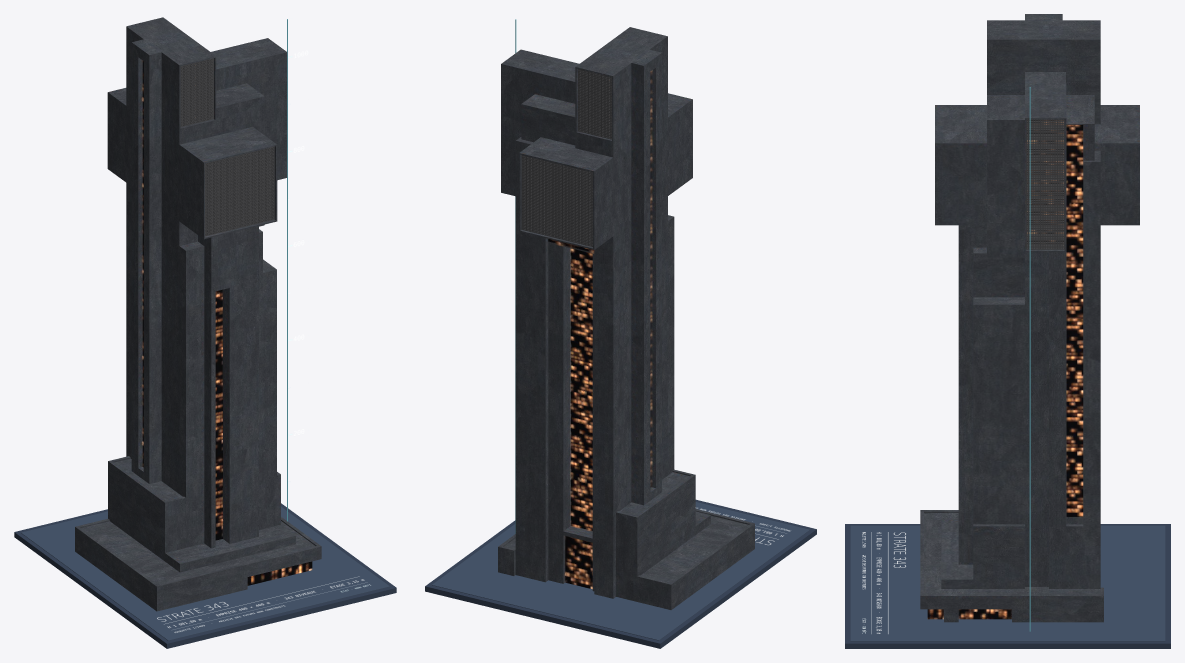
File: projet-01.glb
3 views of the same model, side by side, from view 1: azimuth 30°, elevation 25°; view 2: azimuth 150°, elevation 25°; view 3: azimuth 270°, elevation 25° (orthographic). The views are drawn at different scales.
Visible parts, largest first — view 1: Cube.001_bake, socle_liseré, Cube.003_bake, socle_plaque, cartouche; view 2: Cube.001_bake, socle_liseré, Cube.003_bake, socle_plaque; view 3: Cube.001_bake, socle_liseré, Cube.003_bake, socle_plaque, reglette_mat, cartouche.
Part boxes in pixels (x1,y1,x2,y2): Cube.001_bake: (75,17,321,611); socle_liseré: (21,507,389,640); Cube.003_bake: (180,58,274,236); socle_plaque: (14,503,396,648); cartouche: (157,576,370,632); Cube.001_bake: (498,27,754,609); socle_liseré: (432,502,809,640); Cube.003_bake: (521,69,611,246); socle_plaque: (425,499,816,648); Cube.001_bake: (920,14,1139,622); socle_liseré: (850,525,1165,641); Cube.003_bake: (1026,119,1064,249); socle_plaque: (845,524,1170,648); reglette_mat: (1029,87,1030,631); cartouche: (862,532,905,633).
Size of the model in its own units: 0.0942 by 0.202 by 0.1085.
Materials: 8 (5 with a texture image).
